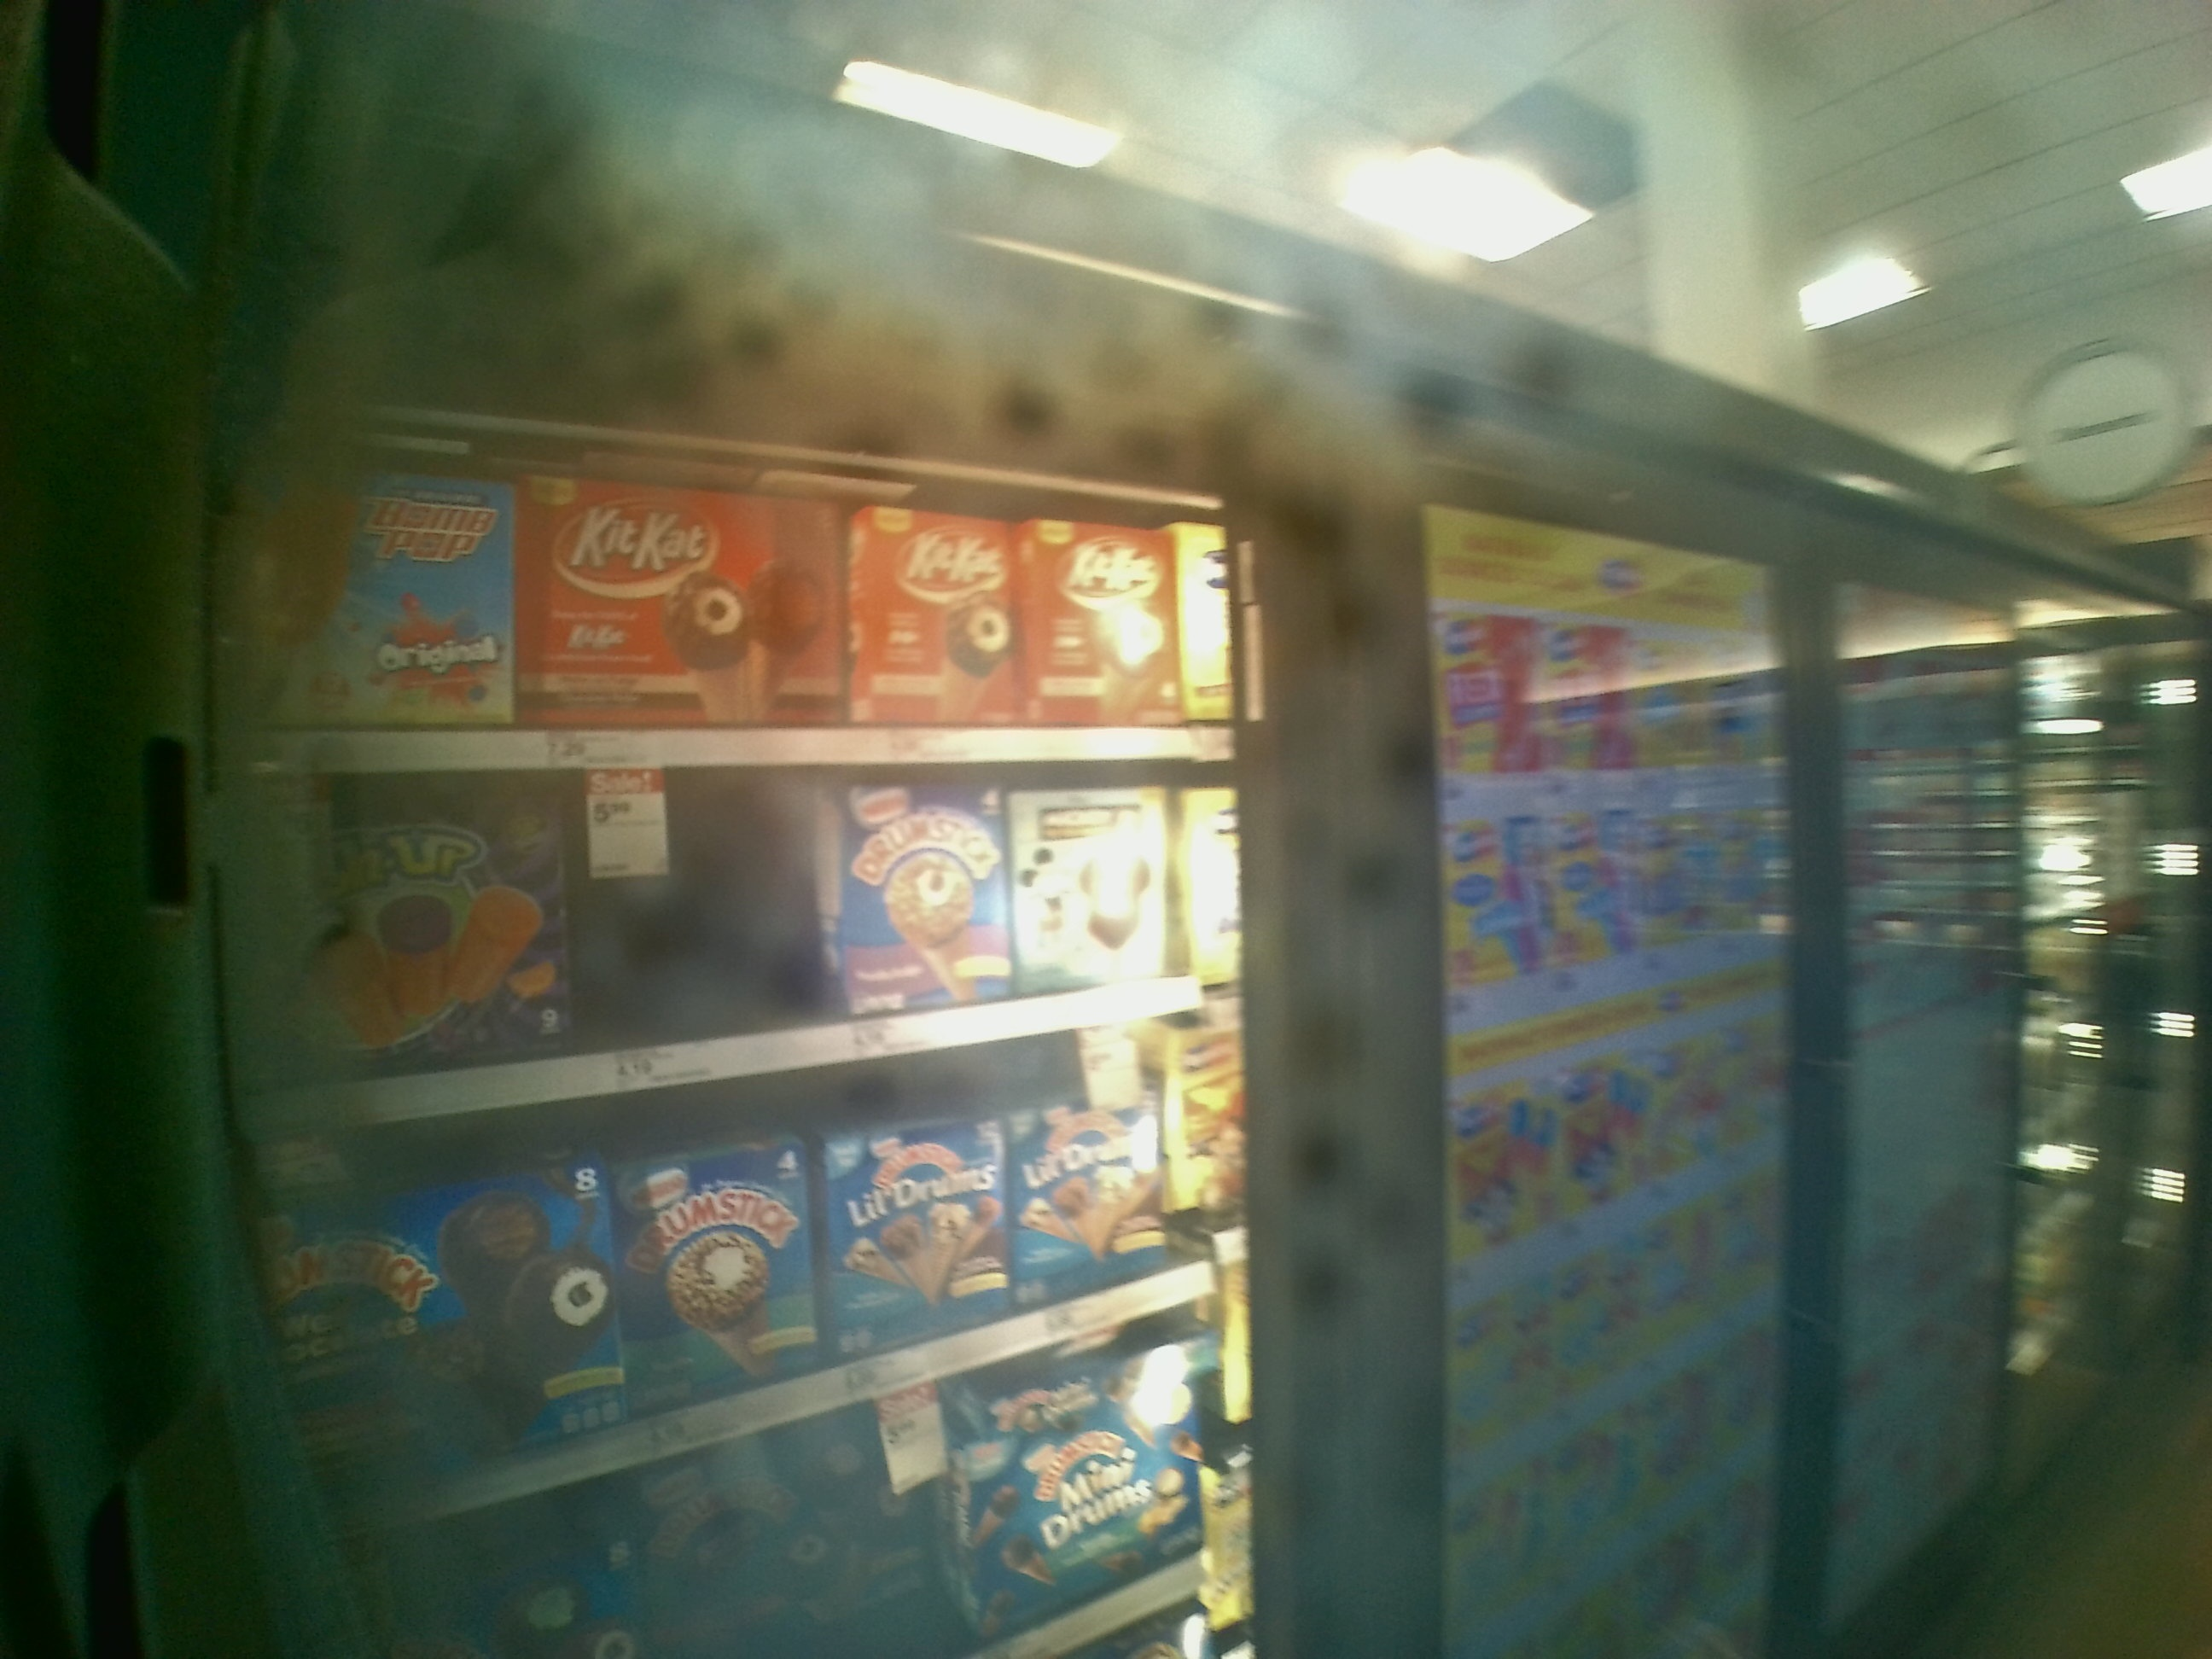shelf: (286, 769, 1235, 1127), (284, 413, 1240, 769)
